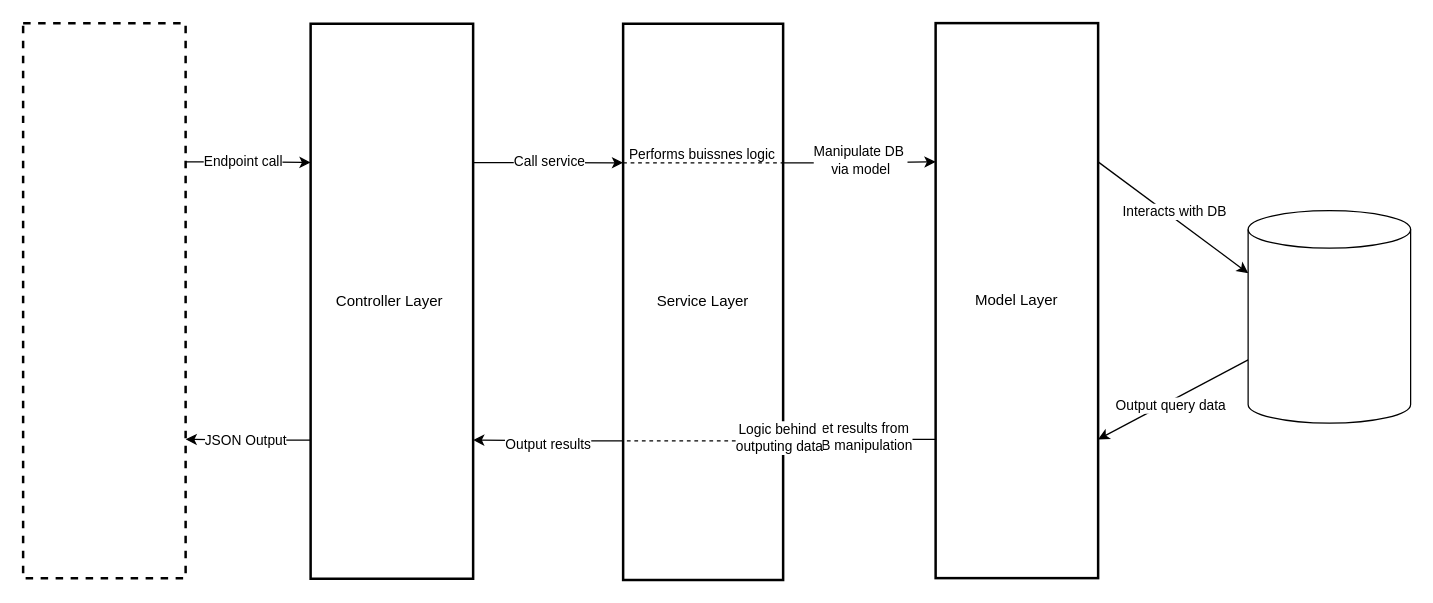
Image size: 1433x603. Some labels were removed from this diagram. Here are the shapes that lost their labels. From the top down, the centre of each, then its label:
At (103,300): "Client application".
At (1329,316): "Database".
